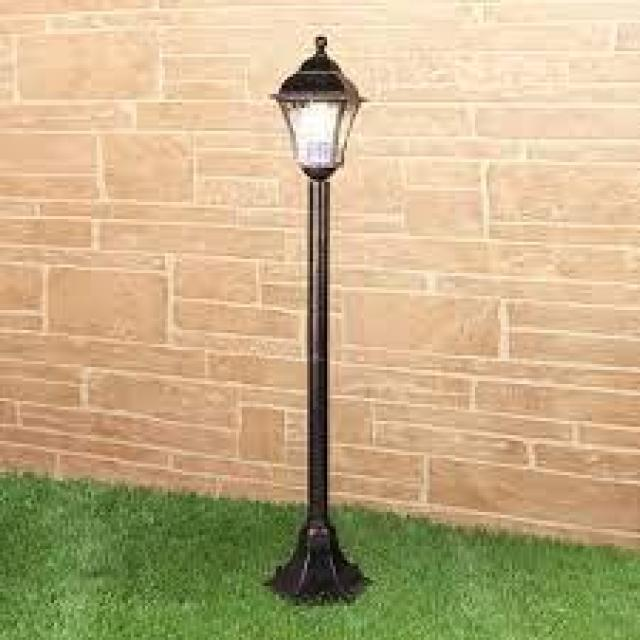pole: (283, 183, 357, 611)
